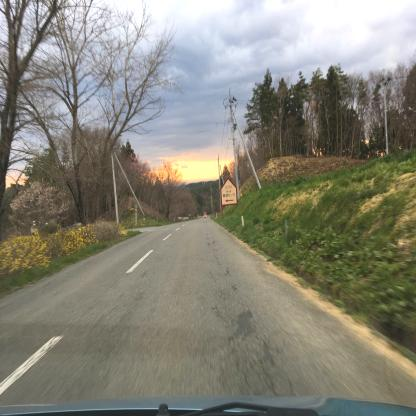Someiyoshino: (2, 170, 77, 235)
